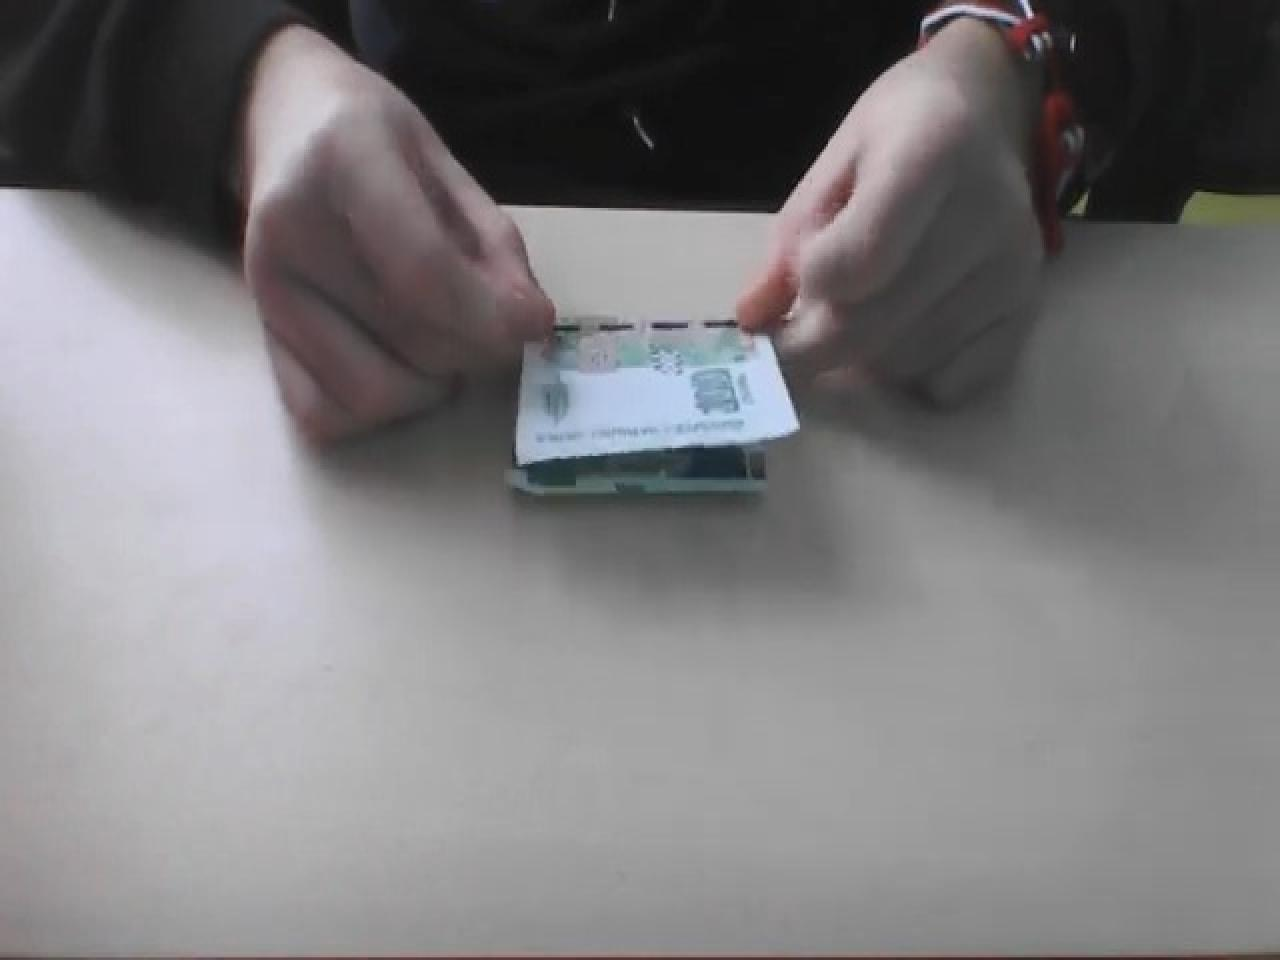100leva: (514, 288, 802, 504)
